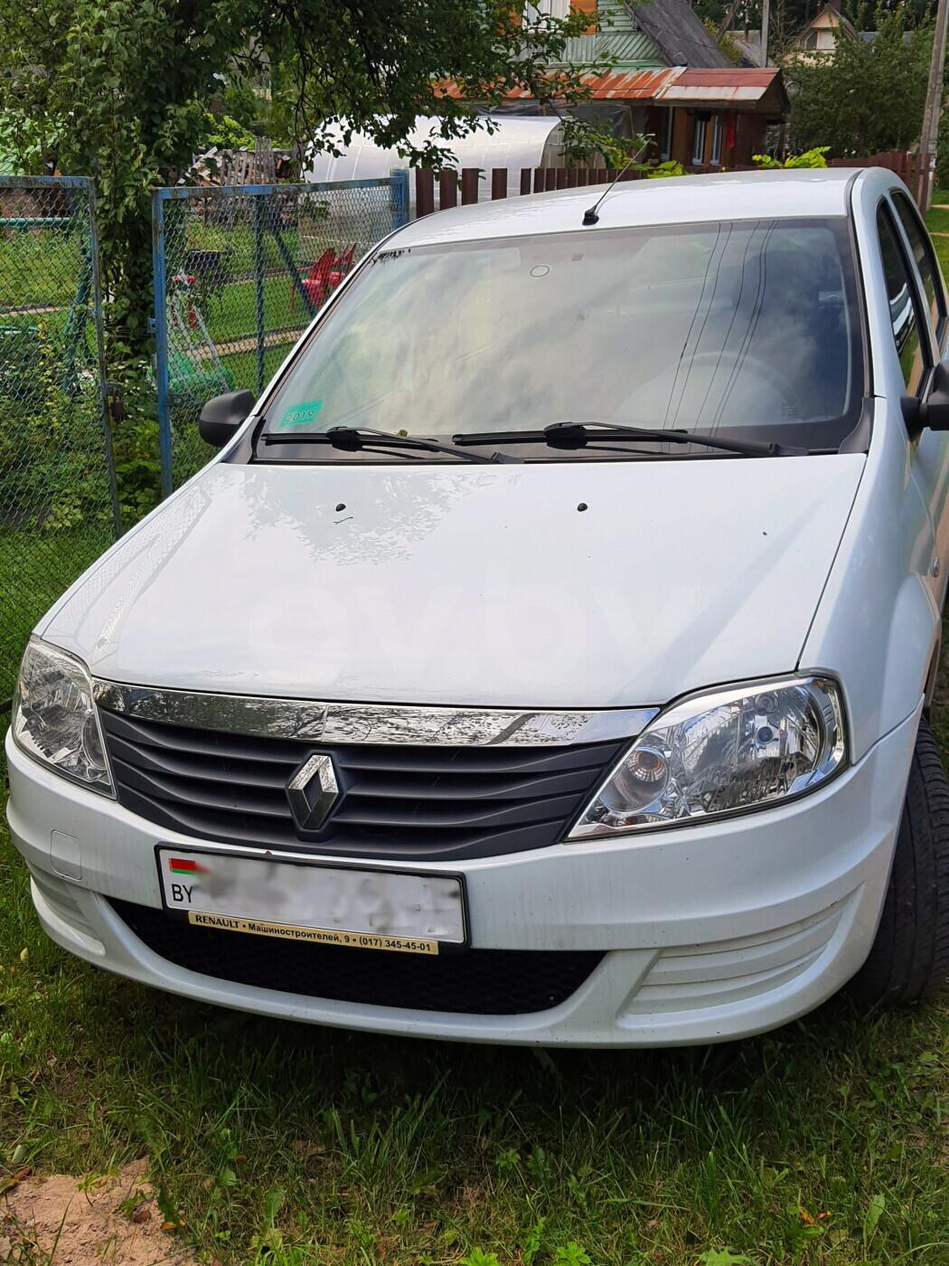Logan_2008-2015: (4, 168, 949, 1087)
